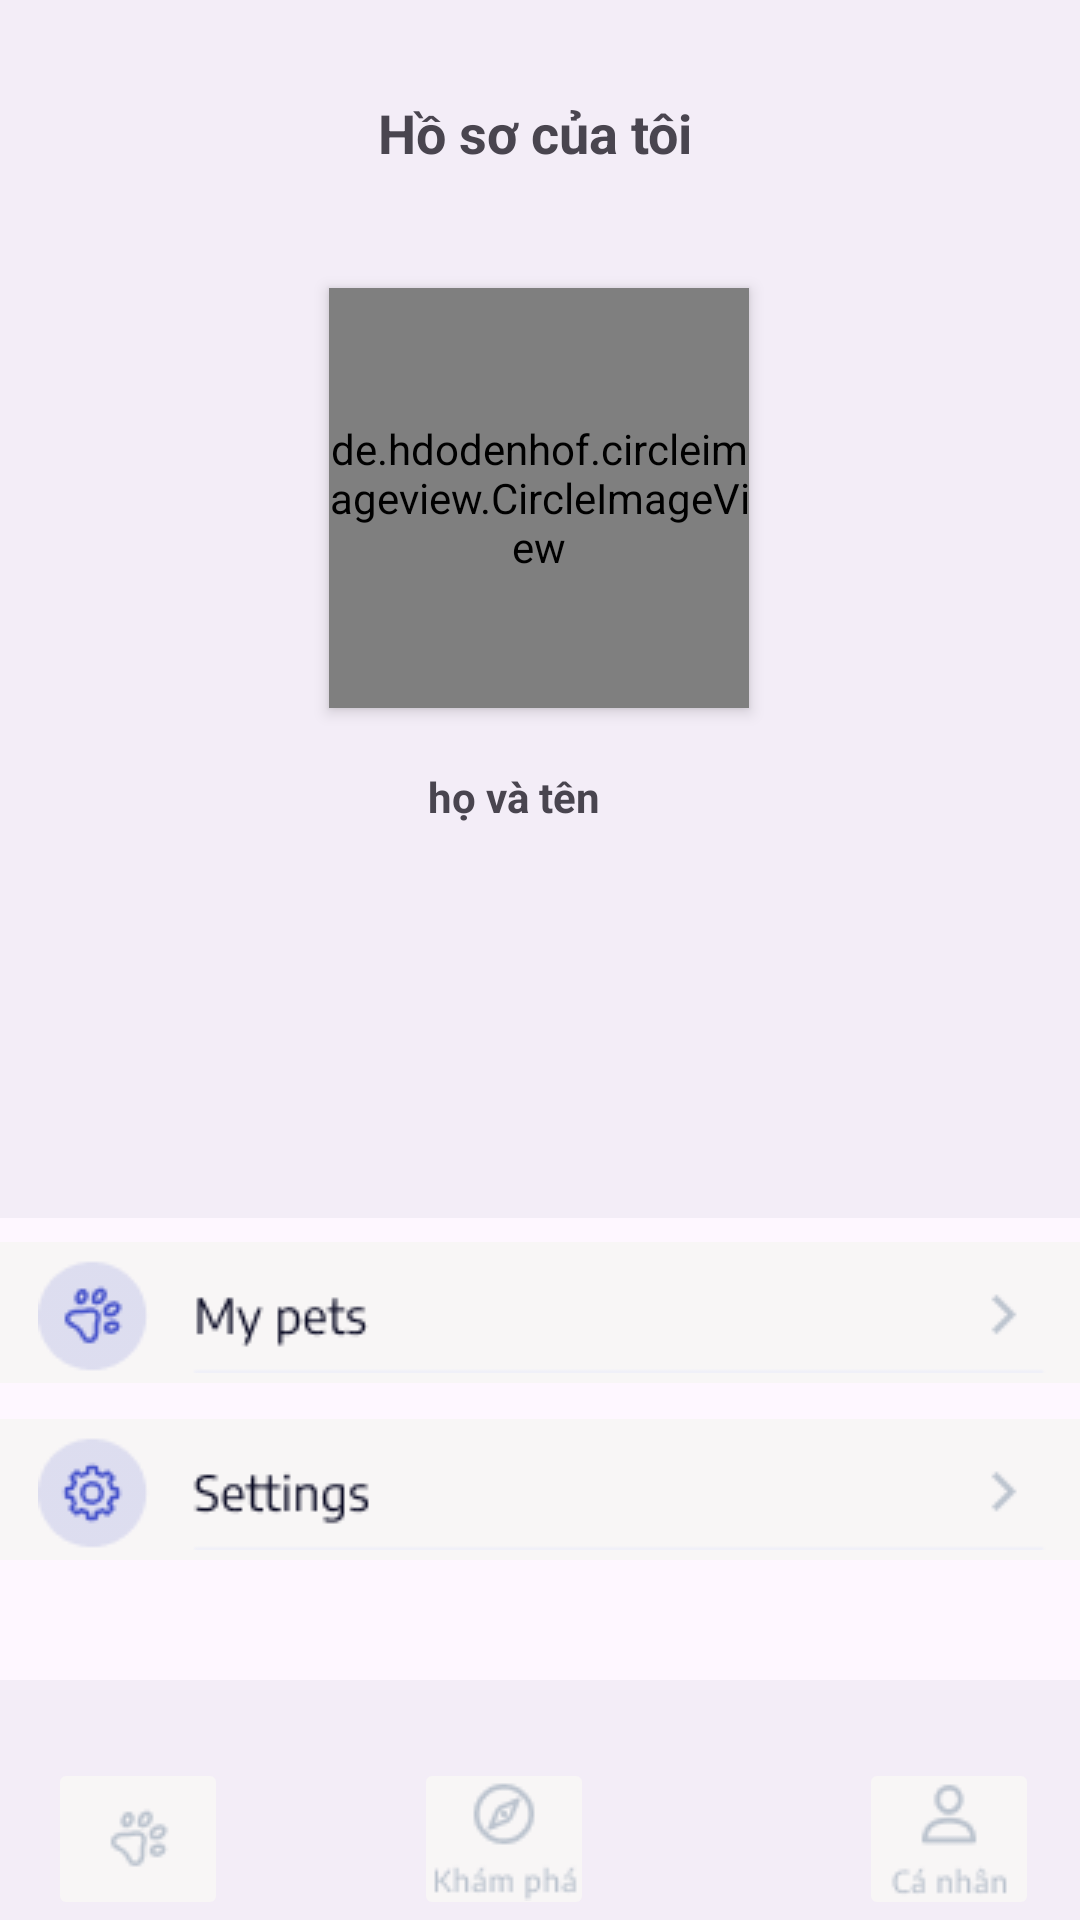

Screen size 1080*1920. Icon name, then its box in pixels as bbox(x1, y1, x2, y2):
Hồ sơ của tôi: bbox(871, 1776, 1027, 1902)
